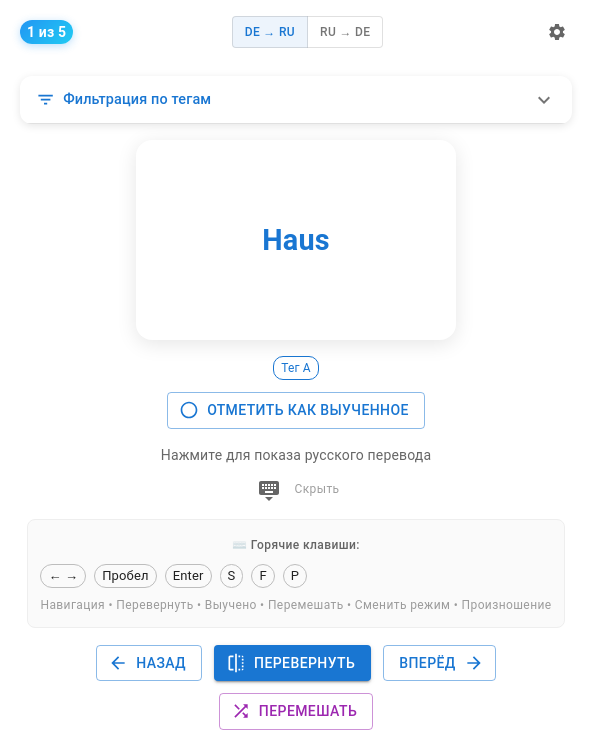
Scenario: UniversalCardViewer learning session › filter change resets position
The image size is (590, 746).
Expected: the text "1 из 5" is shown, left=27, top=24, right=66, bottom=40
Step 1. Click the button "Вперёд" → (439, 663), box left=383, top=644, right=496, bottom=681
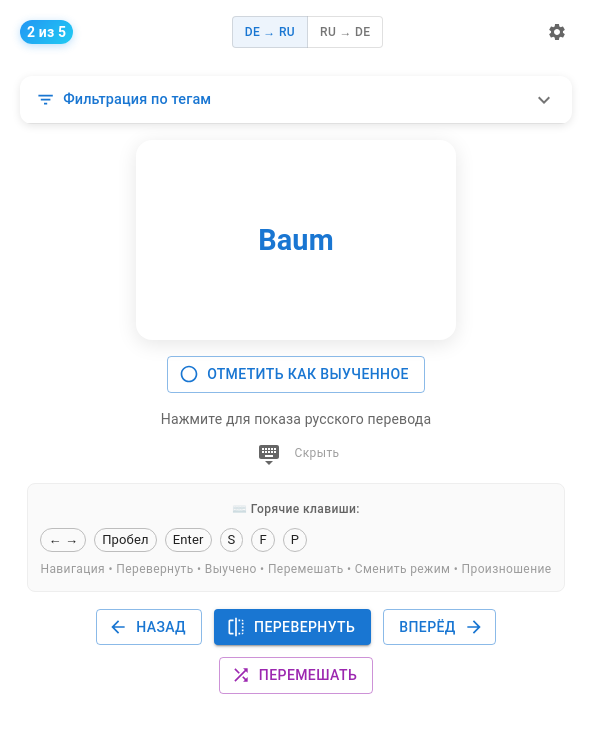
Step 2. Click the button "Вперёд" → (439, 627), box left=383, top=608, right=496, bottom=645
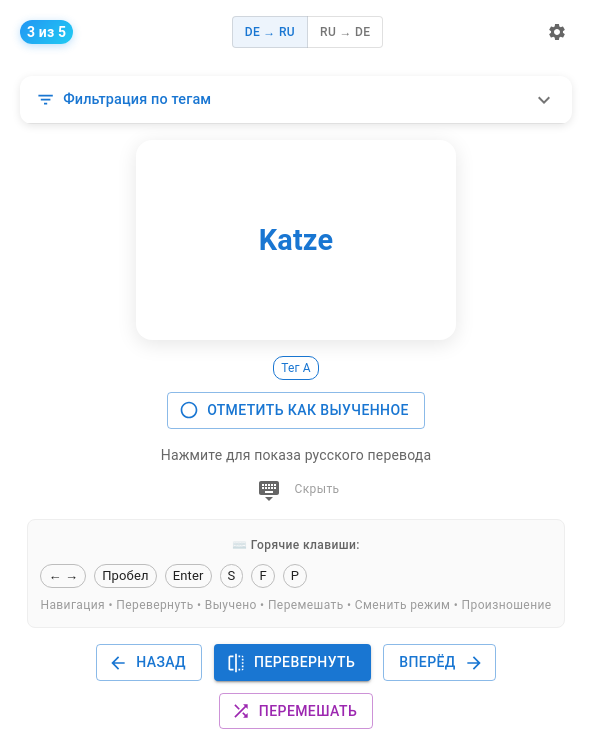
Step 3. Click the button "Вперёд" → (439, 663), box left=383, top=644, right=496, bottom=681
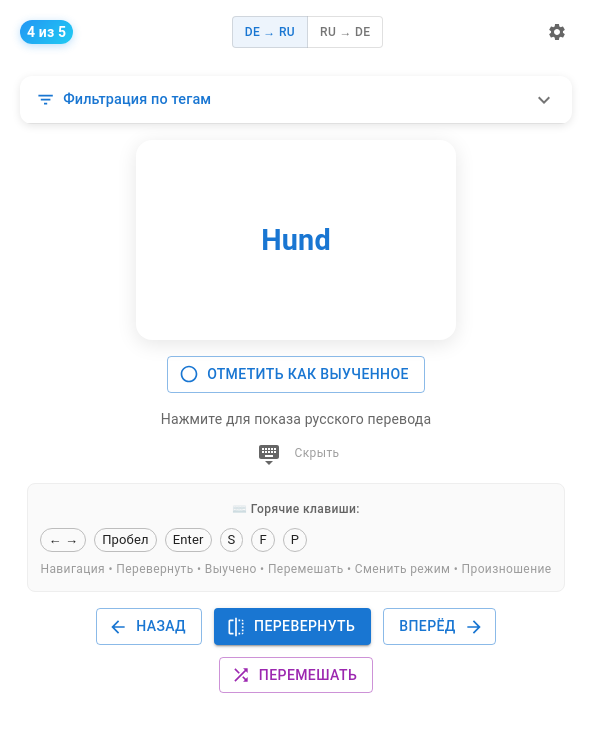
Step 4. Click the button "Фильтрация по тегам" → (137, 99), box left=20, top=76, right=572, bottom=124
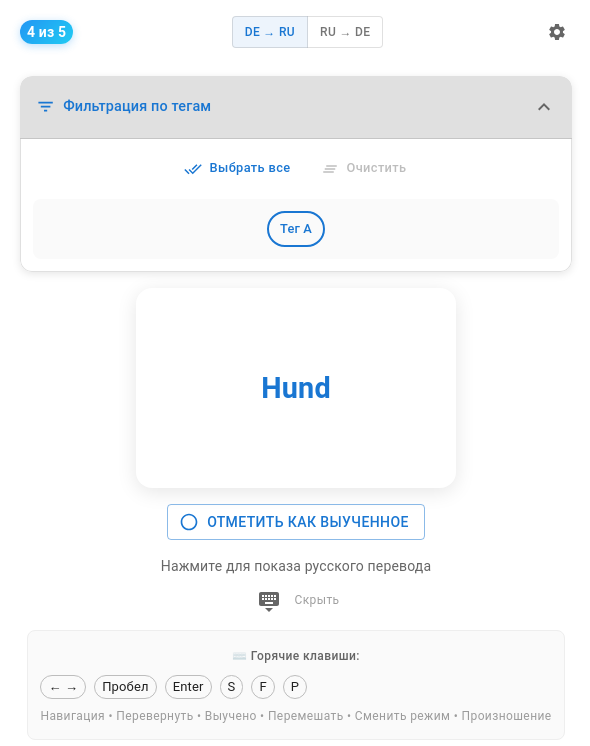
Step 5. Click the button "Тег A" → (296, 229), box left=267, top=211, right=325, bottom=247
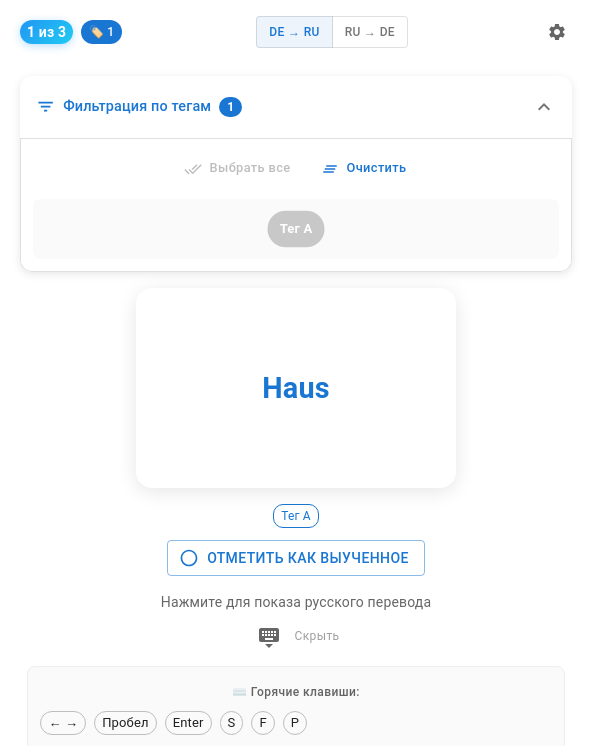
Now the text "1 из 3" is shown, box left=27, top=24, right=66, bottom=40
Now the heading "Haus" is shown, box left=262, top=370, right=330, bottom=405
